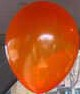Balloon: (4, 1, 80, 93)
